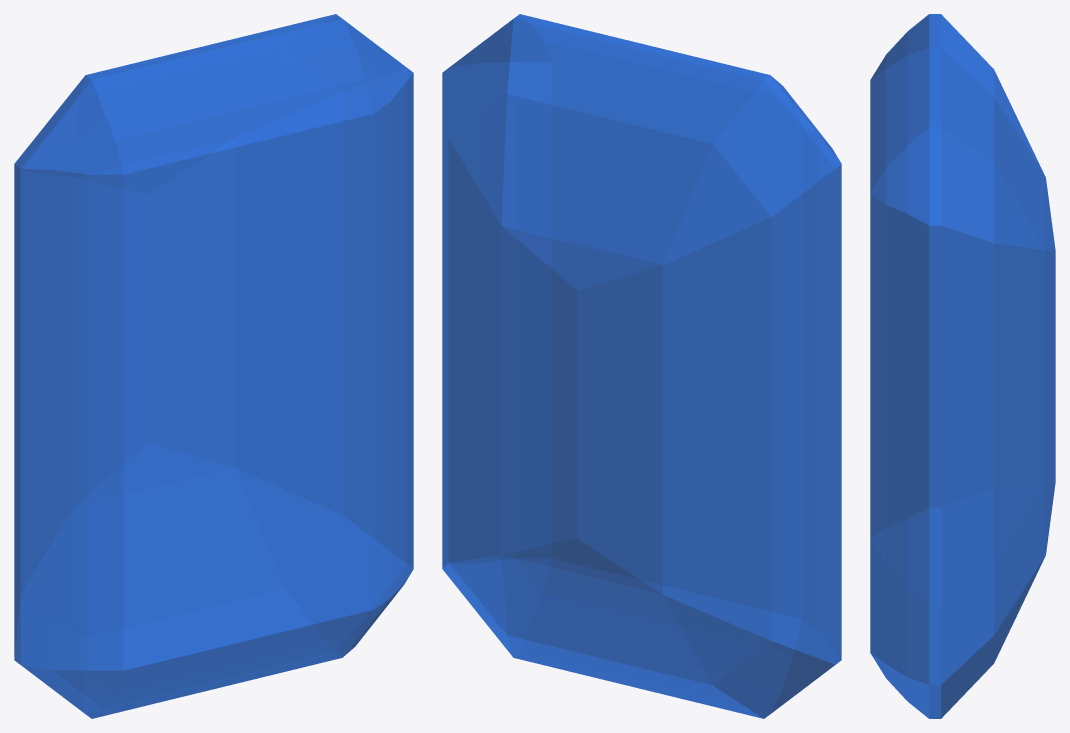
The model's file is emerald lazulli.glb.
3 renders of one model, left to right at view 1: azimuth 30°, elevation 25°; view 2: azimuth 150°, elevation 25°; view 3: azimuth 270°, elevation 25°, orthographic. The views are drawn at different scales.
Visible parts, largest first — view 1: Emerald; view 2: Emerald; view 3: Emerald.
Boxes of the visible parts, x1,y1,x2,y2 form: Emerald: [14, 14, 413, 718]; Emerald: [442, 14, 841, 718]; Emerald: [870, 14, 1055, 718].
Size of the model in its own units: 1.29 by 2 by 0.568.
